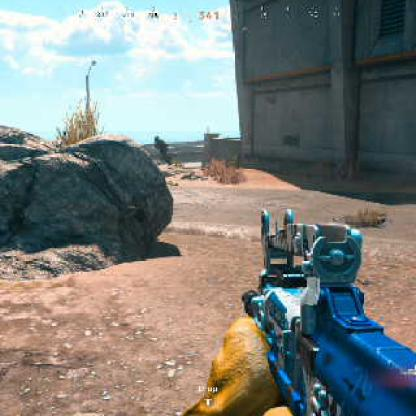enemy: (152, 135, 172, 163)
